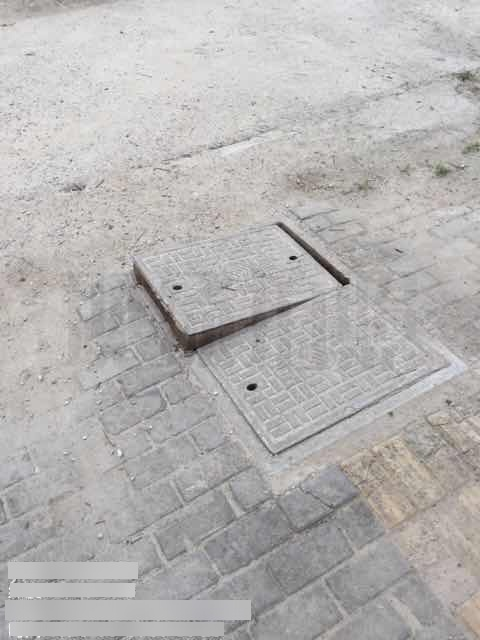uncovered: (125, 215, 466, 467)
